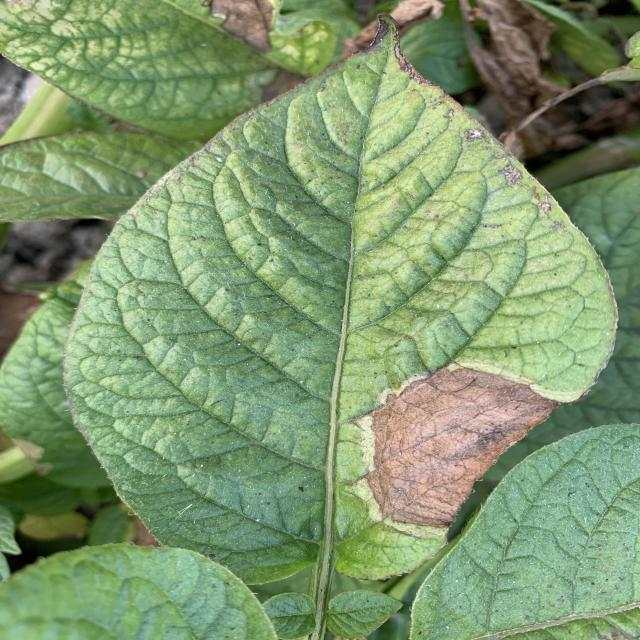lateblight: (355, 368, 558, 528)
